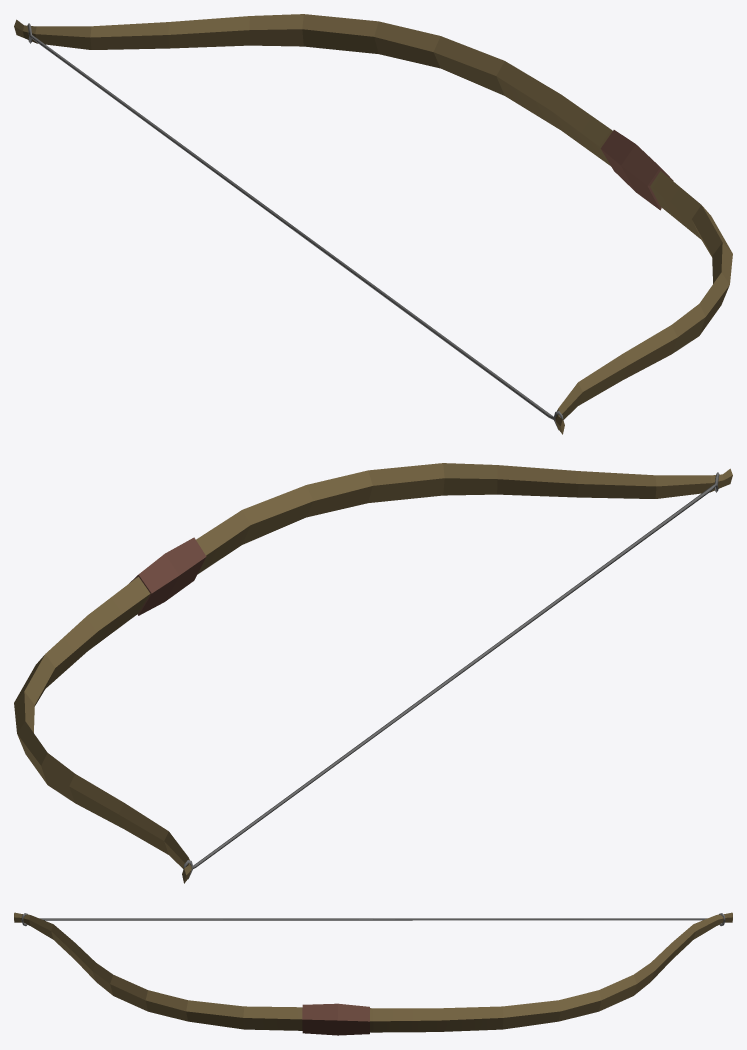
The model's file is Bow.fbx.
3 views of the same model, one above another, from view 1: azimuth 30°, elevation 25°; view 2: azimuth 150°, elevation 25°; view 3: azimuth 270°, elevation 25° (orthographic). The views are drawn at different scales.
Visible parts, largest first — view 1: Cube.001; view 2: Cube.001; view 3: Cube.001.
Part boxes in pixels (x1,y1,x2,y2): Cube.001: (14,14,732,434); Cube.001: (14,463,732,883); Cube.001: (14,912,732,1035).
Size of the model in its own units: 89.5 by 12.27 by 251.
